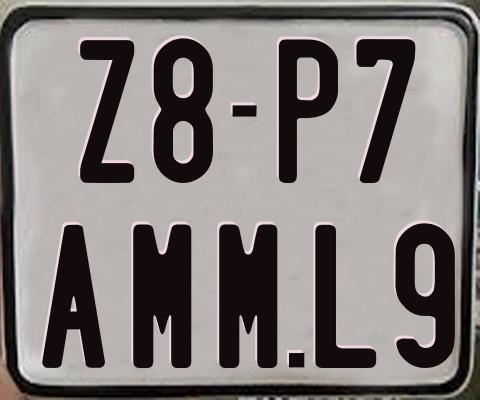7: (355, 36, 419, 183)
8: (151, 35, 212, 181)
9: (394, 223, 459, 374)
A: (39, 225, 104, 371)
L: (313, 222, 380, 367)
M: (130, 223, 192, 371), (217, 221, 278, 370)
P: (276, 37, 337, 186)
Z: (80, 40, 137, 187)
